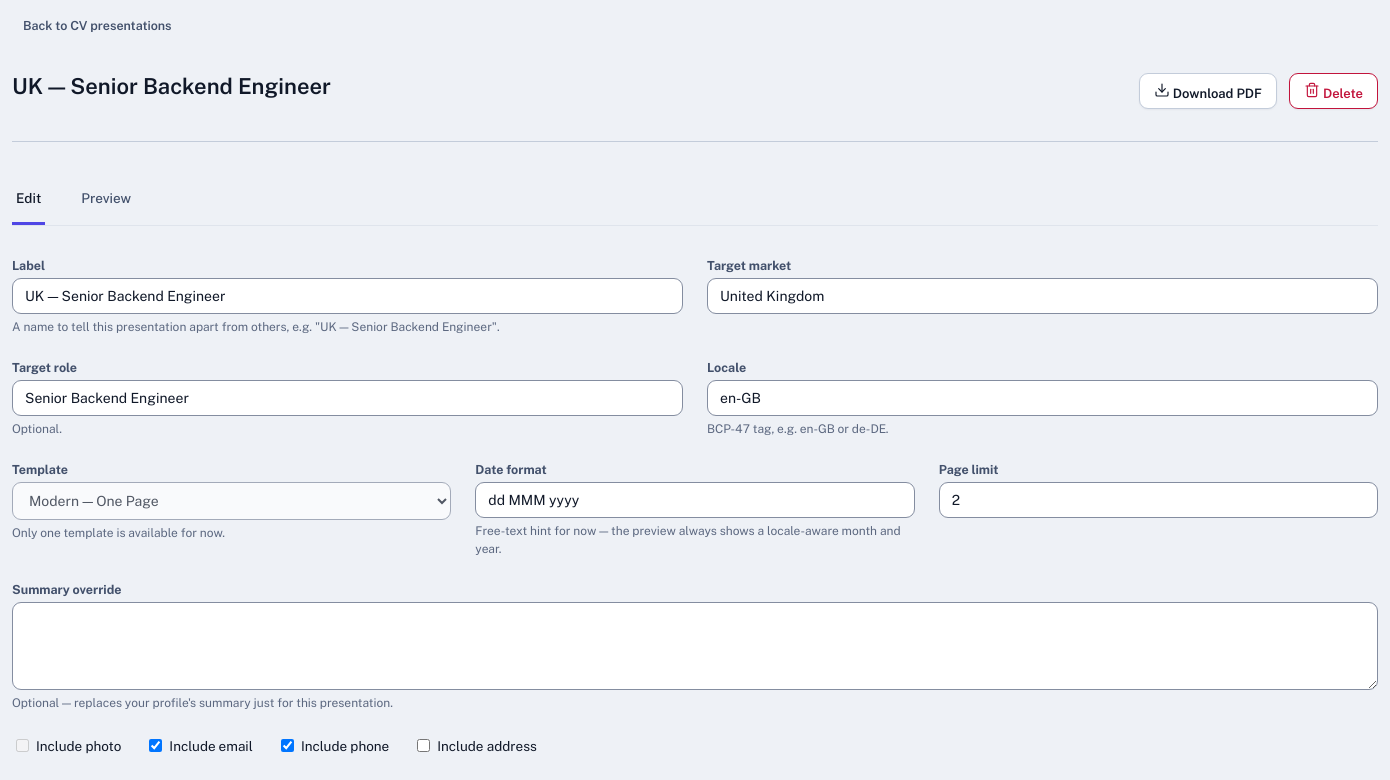
Scenario: CVPresentationDetailPage export › shows an inline message when the presentation has photo inclusion enabled
Expected: the heading "UK — Senior Backend Engineer" is shown, [12,72,331,98]
Click the button "Download PDF" at (1208, 90), box [1139,72,1277,108]
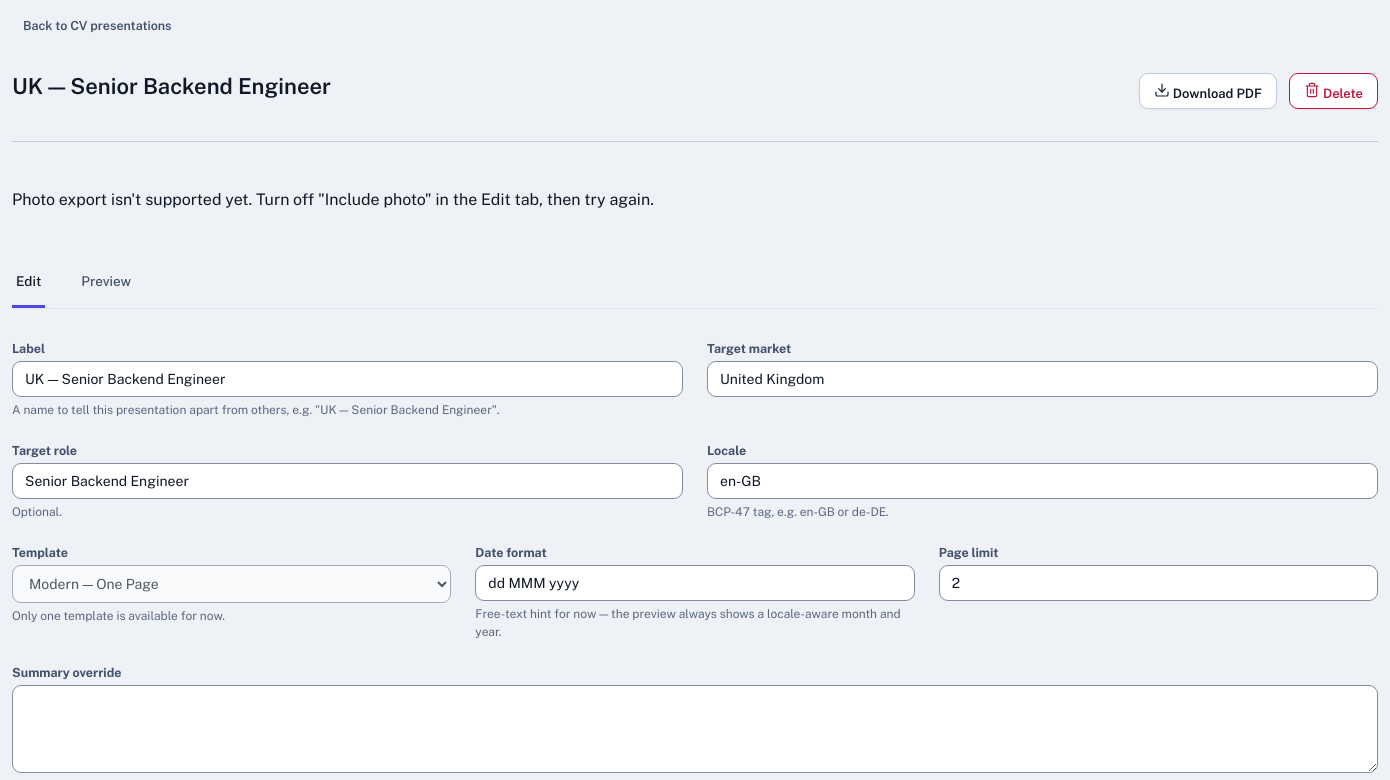
Result: the message shows "Photo" at [12,190,654,208]
